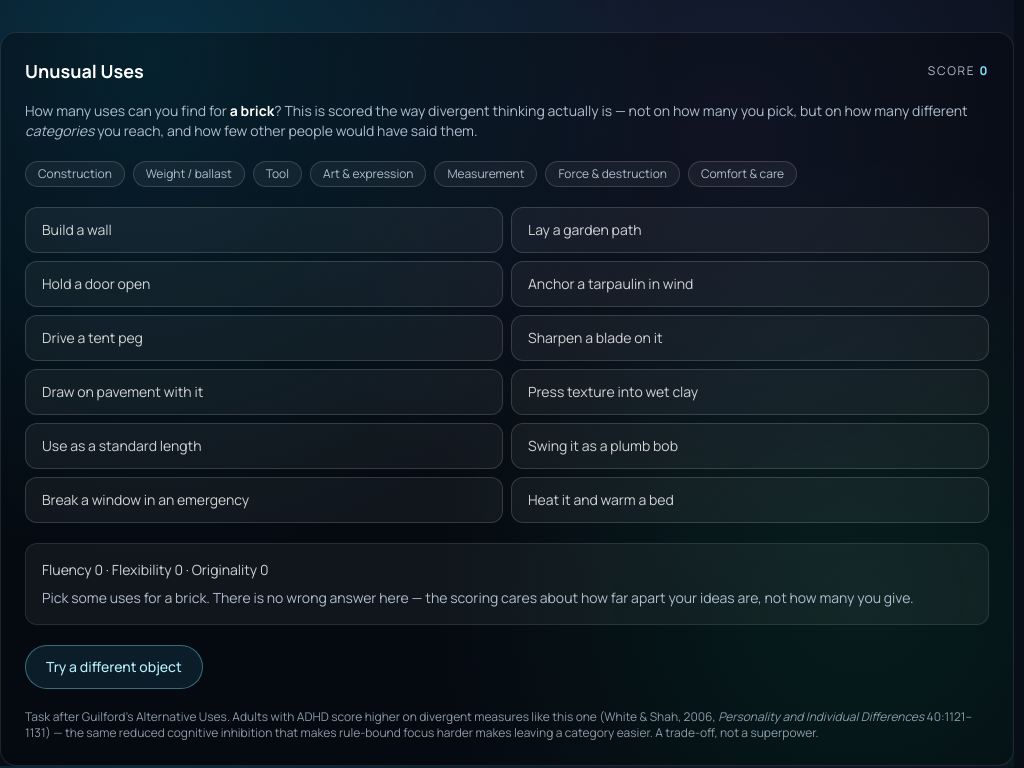
Test: DivergentThinkingGame › "Try a different object" cycles to the next object and resets selections
The image size is (1024, 768).
Click the button "Build a wall": (77, 230) top-left (25, 207), bottom-right (503, 253)
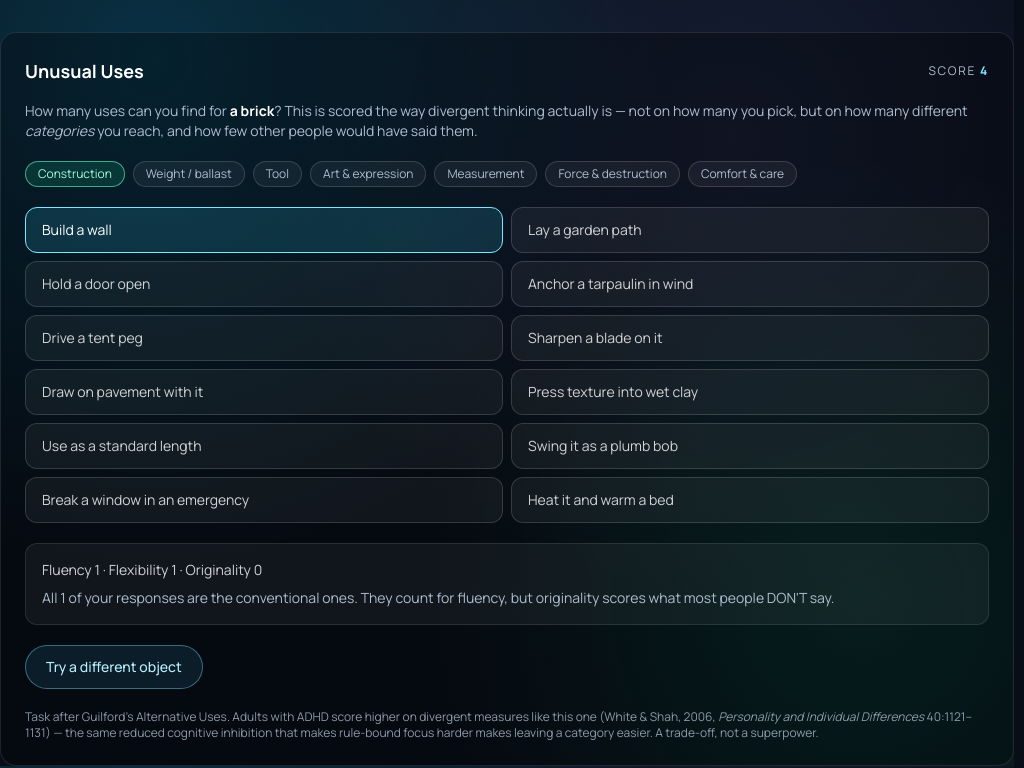
Check: the element with test id "dt-total" no longer shows "0"
Click the button with test id "dt-next": (114, 667) top-left (25, 645), bottom-right (203, 689)
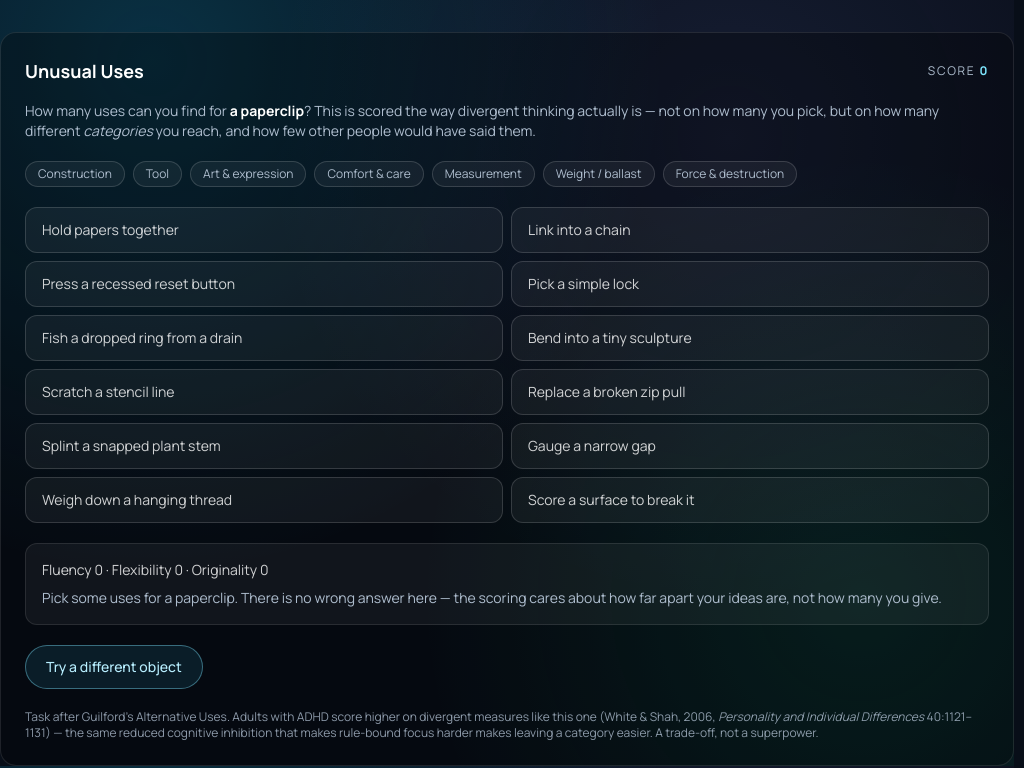
Check: the element with test id "divergent-thinking-game" shows "a paperclip", box top-left (230, 101), bottom-right (304, 120)
Check: the text with test id "dt-total" reads "0", box top-left (979, 62), bottom-right (989, 79)
